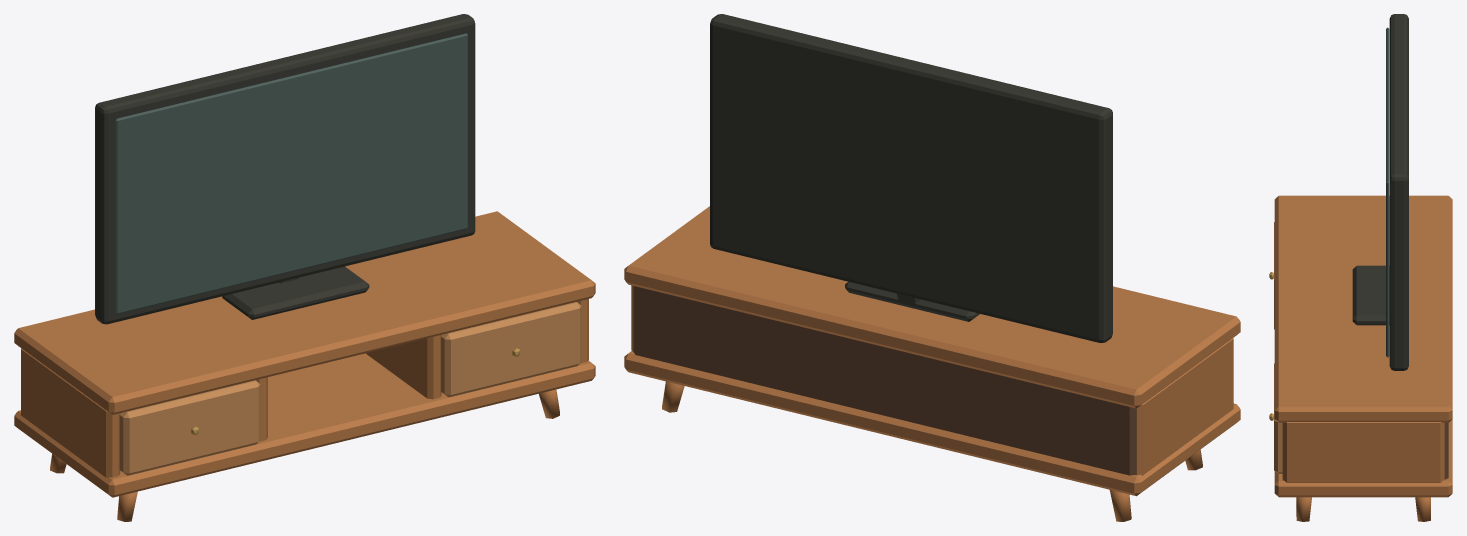
File: tvStand.glb
3 views of the same model, side by side, from view 1: azimuth 30°, elevation 25°; view 2: azimuth 150°, elevation 25°; view 3: azimuth 270°, elevation 25° (orthographic). The views are drawn at different scales.
Visible parts, largest first — view 1: tvStand_screen, tvStand_board_0.47, tvStand_board_0.17, tvStand_tv, tvStand_drawer_-1, tvStand_drawer_1, tvStand_divider_-0.89, tvStand_tv_foot, tvStand_divider_0.33; view 2: tvStand_tv, tvStand_board_0.47, tvStand_back, tvStand_board_0.17, tvStand_divider_-0.89, tvStand_tv_foot; view 3: tvStand_board_0.47, tvStand_divider_0.89, tvStand_tv, tvStand_board_0.17, tvStand_tv_foot, tvStand_screen, tvStand_drawer_1, tvStand_leg_0.79_-0.215, tvStand_leg_0.79_0.215, tvStand_back.
Part boxes in pixels (bbox=[...]): tvStand_screen: bbox=[115, 33, 467, 314]; tvStand_board_0.47: bbox=[14, 211, 595, 414]; tvStand_board_0.17: bbox=[14, 353, 595, 497]; tvStand_tv: bbox=[95, 14, 475, 324]; tvStand_drawer_-1: bbox=[119, 380, 260, 475]; tvStand_drawer_1: bbox=[441, 302, 581, 397]; tvStand_divider_-0.89: bbox=[21, 348, 120, 477]; tvStand_tv_foot: bbox=[222, 266, 369, 319]; tvStand_divider_0.33: bbox=[366, 335, 441, 399]; tvStand_tv: bbox=[710, 14, 1112, 342]; tvStand_board_0.47: bbox=[624, 206, 1240, 408]; tvStand_back: bbox=[633, 286, 1136, 475]; tvStand_board_0.17: bbox=[624, 351, 1240, 496]; tvStand_divider_-0.89: bbox=[1136, 338, 1233, 475]; tvStand_tv_foot: bbox=[845, 281, 979, 321]; tvStand_board_0.47: bbox=[1274, 195, 1452, 422]; tvStand_divider_0.89: bbox=[1282, 422, 1444, 482]; tvStand_tv: bbox=[1389, 14, 1408, 370]; tvStand_board_0.17: bbox=[1274, 419, 1452, 497]; tvStand_tv_foot: bbox=[1352, 265, 1389, 325]; tvStand_screen: bbox=[1386, 27, 1389, 357]; tvStand_drawer_1: bbox=[1274, 363, 1282, 473]; tvStand_leg_0.79_-0.215: bbox=[1296, 497, 1311, 521]; tvStand_leg_0.79_0.215: bbox=[1415, 497, 1430, 521]; tvStand_back: bbox=[1444, 422, 1448, 479].
Bounding box in the file's own units: 1.85 × 1.34 × 0.6695.
